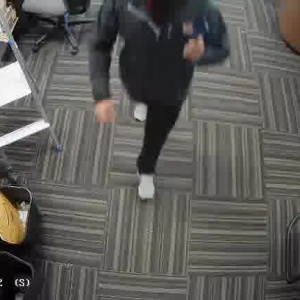person: (92, 0, 221, 208)
